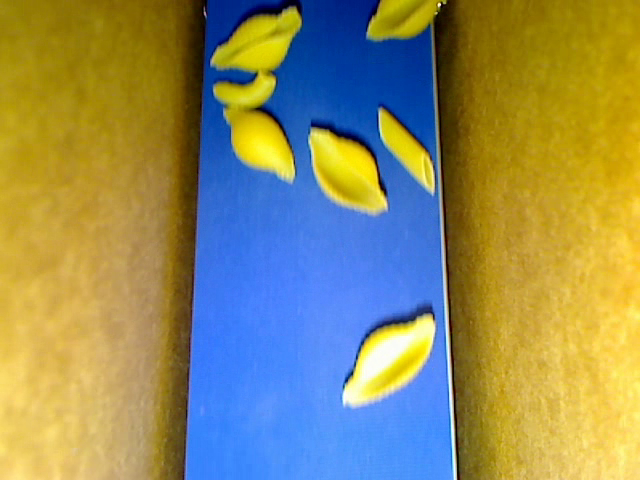elbow: (213, 68, 277, 111)
penne: (378, 106, 436, 195)
shell: (340, 312, 436, 409), (307, 128, 388, 217), (209, 6, 302, 74), (223, 107, 294, 184), (366, 1, 438, 43)
